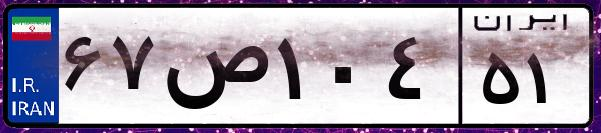0: (330, 28, 385, 110)
1: (270, 28, 330, 110), (525, 38, 570, 115)
4: (385, 28, 445, 110)
5: (475, 38, 525, 113)
6: (57, 26, 110, 100)
7: (110, 28, 158, 98)
ص: (158, 20, 270, 120)
